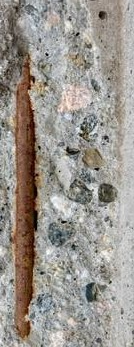Exposed reinforcement: (14, 52, 36, 339)
Spalling: (1, 1, 124, 347)
